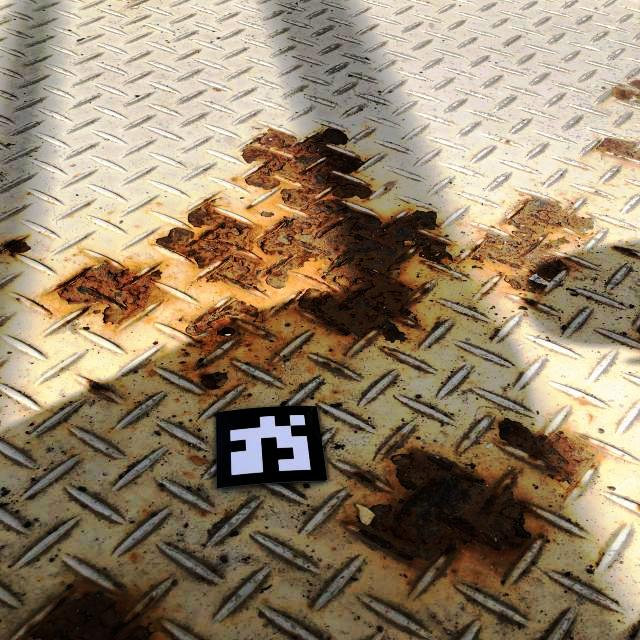Corrosion: (153, 128, 453, 341), (351, 450, 530, 562), (467, 197, 594, 294), (55, 259, 160, 324), (16, 591, 152, 640), (499, 419, 594, 482), (178, 299, 265, 353), (596, 137, 640, 164), (342, 468, 385, 490), (611, 79, 640, 106), (1, 238, 31, 257), (86, 378, 114, 396), (200, 372, 227, 390), (609, 245, 638, 259), (29, 300, 53, 314), (522, 297, 541, 308), (78, 304, 94, 314), (599, 86, 608, 90)
